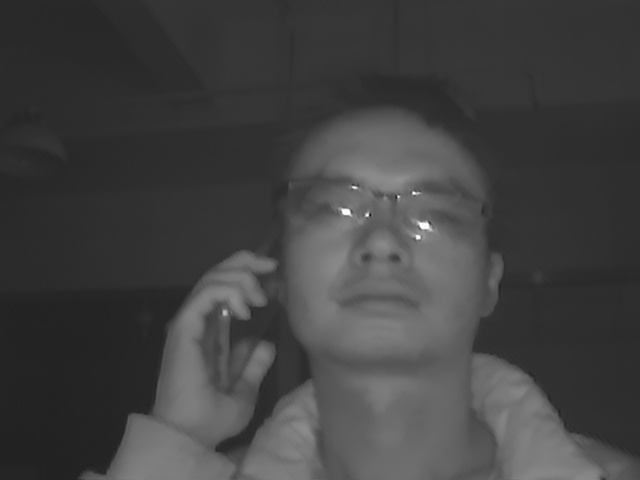hand: (148, 248, 280, 448)
